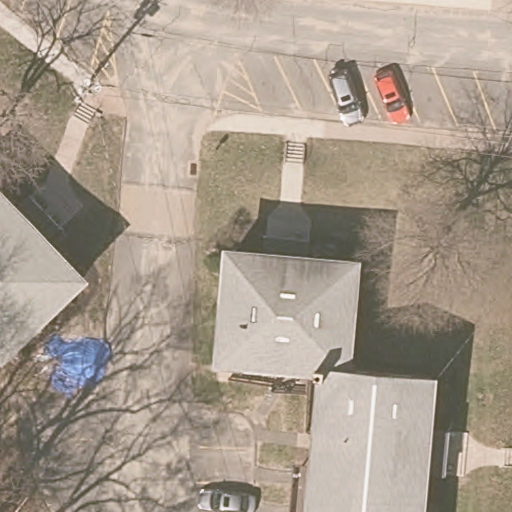DT: (73, 69, 105, 107)
